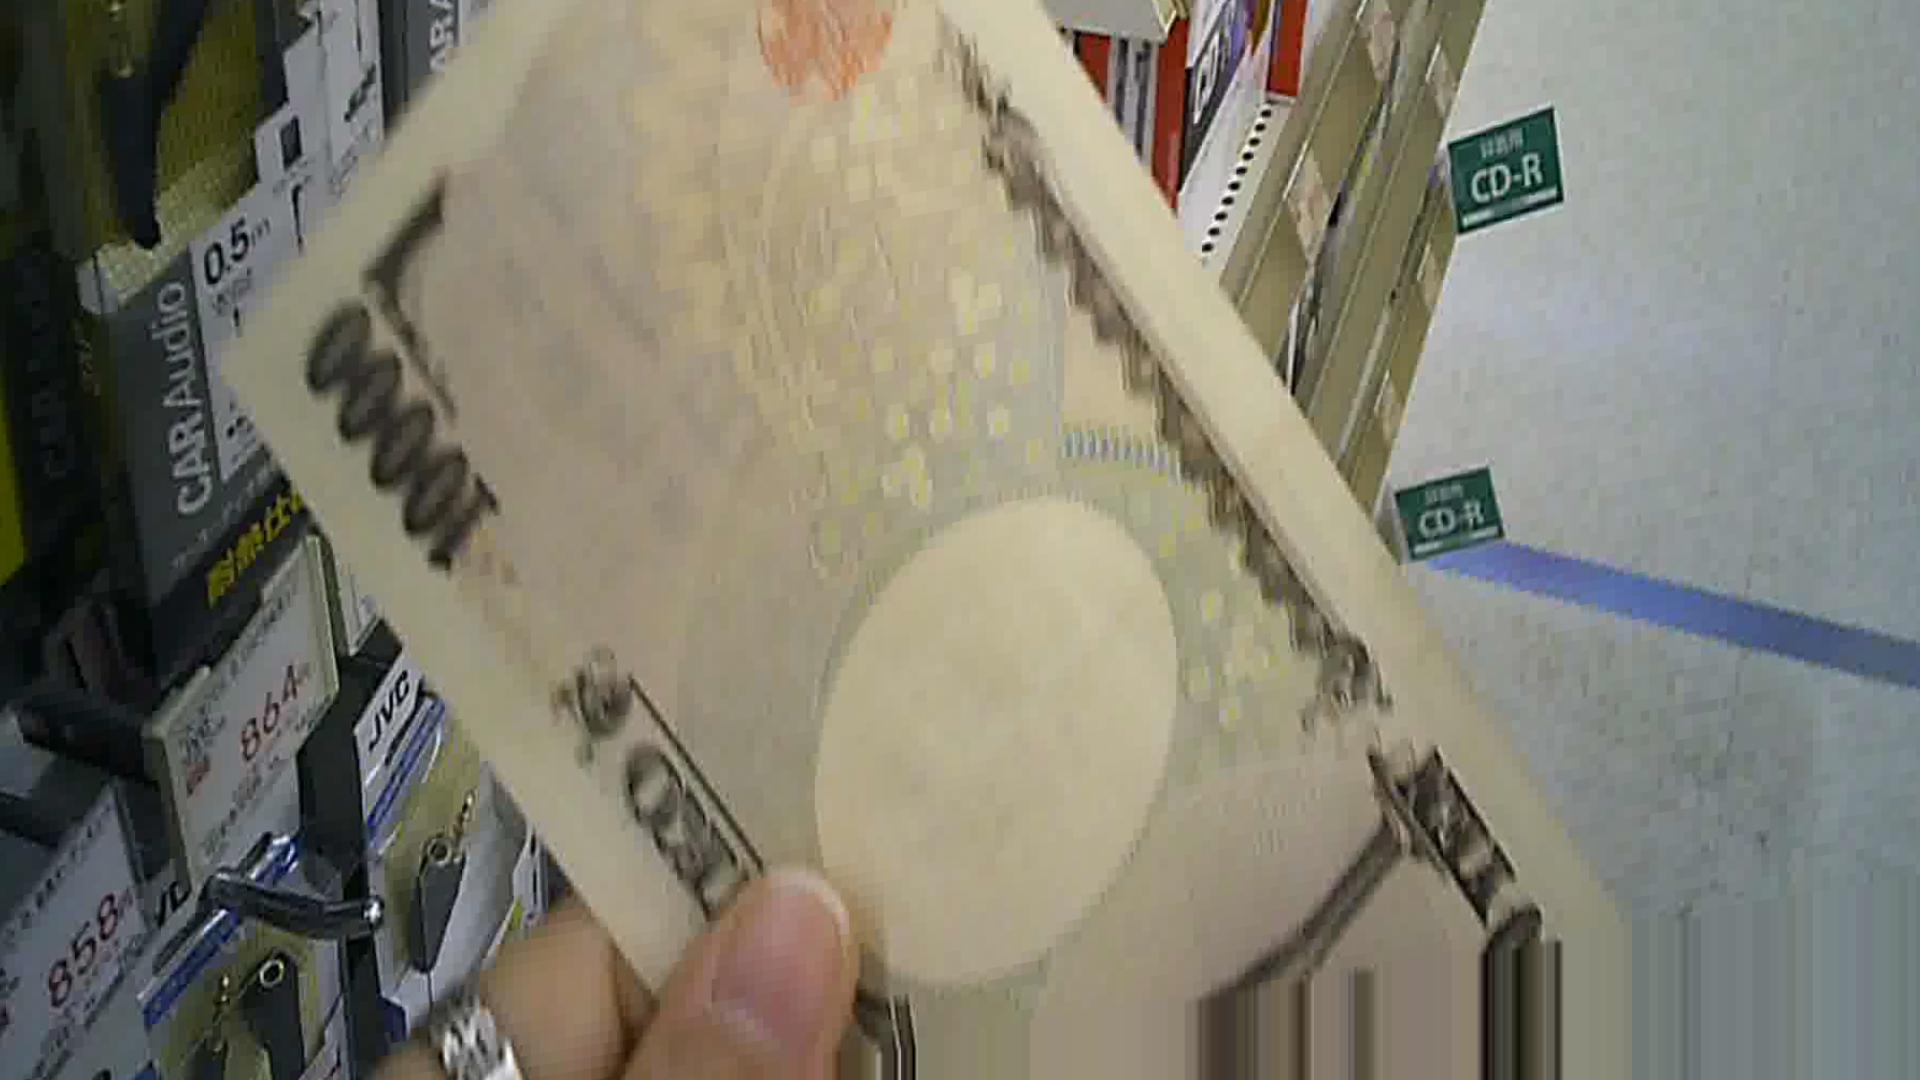10,000 Yen: (206, 8, 1644, 971)
